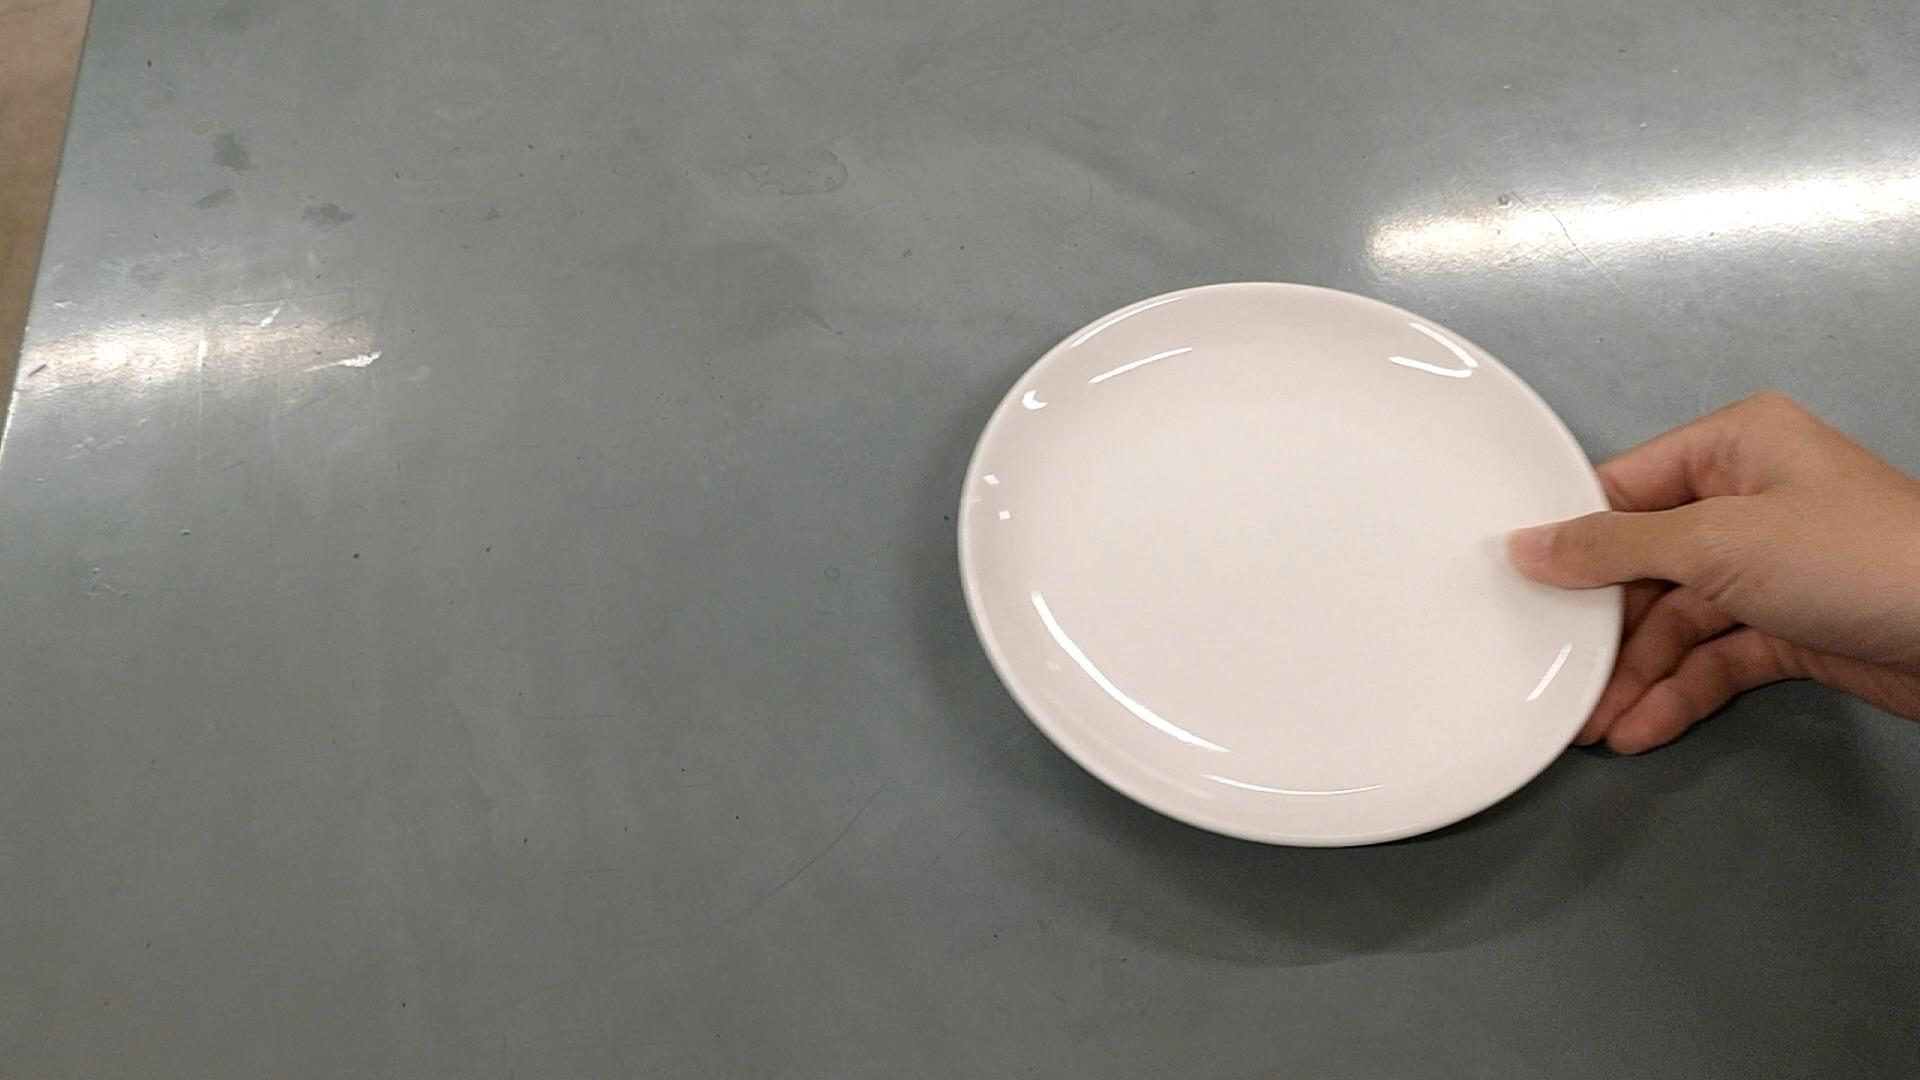plate: (960, 278, 1625, 848)
